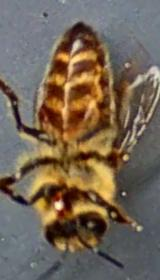varroa_mite: (34, 100, 54, 124)
